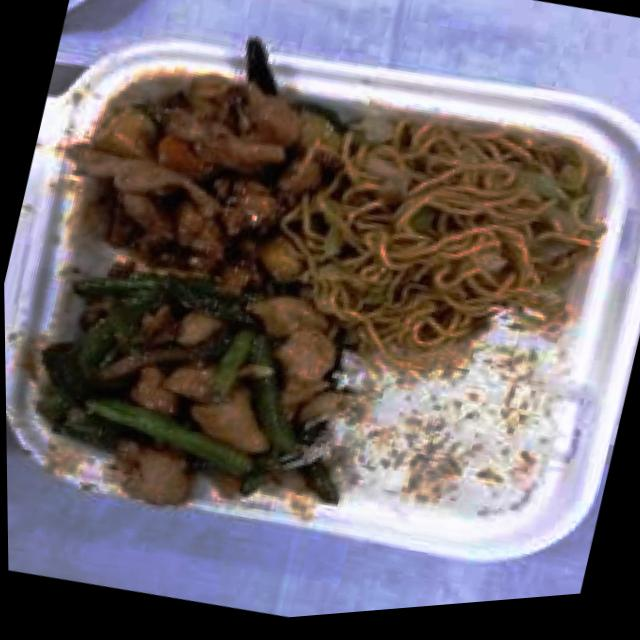Chow Mein: (299, 85, 609, 376)
Kung Pao Chicken: (64, 35, 349, 304)
String Bean Chicken Breast: (12, 242, 333, 539)
rice: (325, 292, 580, 544)
